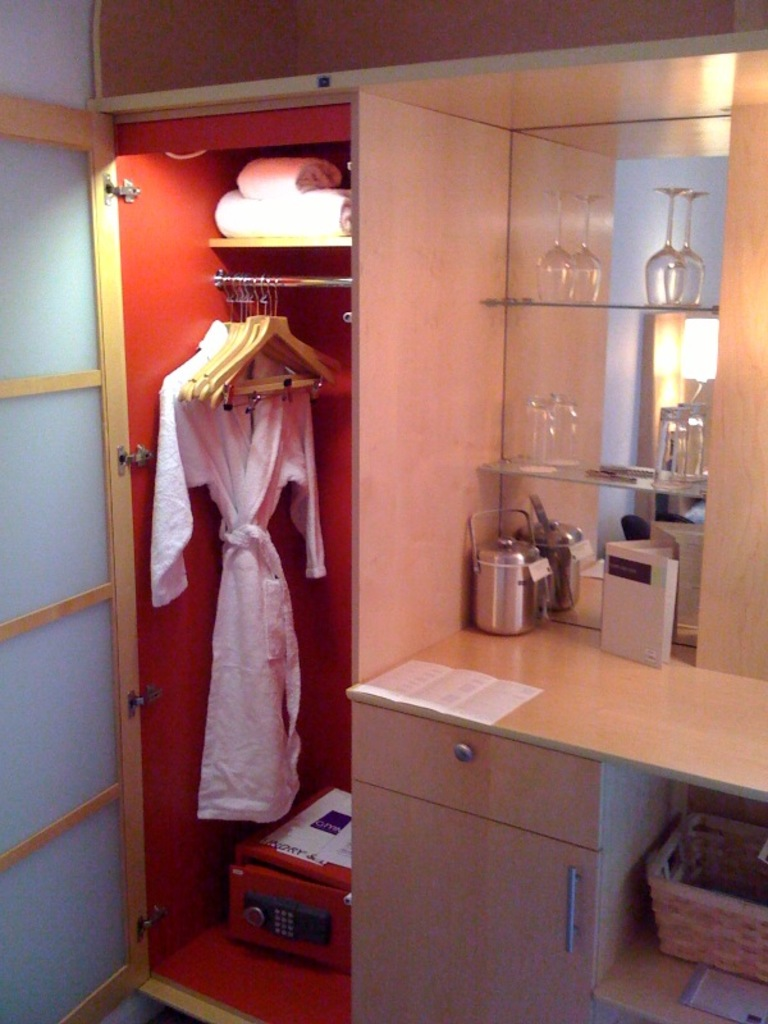cabinet door: (7, 118, 139, 977), (364, 819, 581, 1024), (373, 714, 575, 832)
handle: (557, 855, 581, 961), (448, 731, 475, 774)
